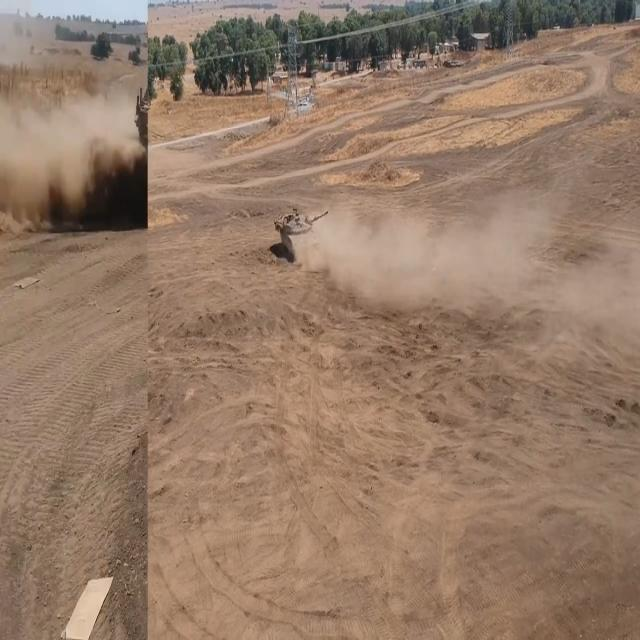tank: (276, 198, 338, 286)
